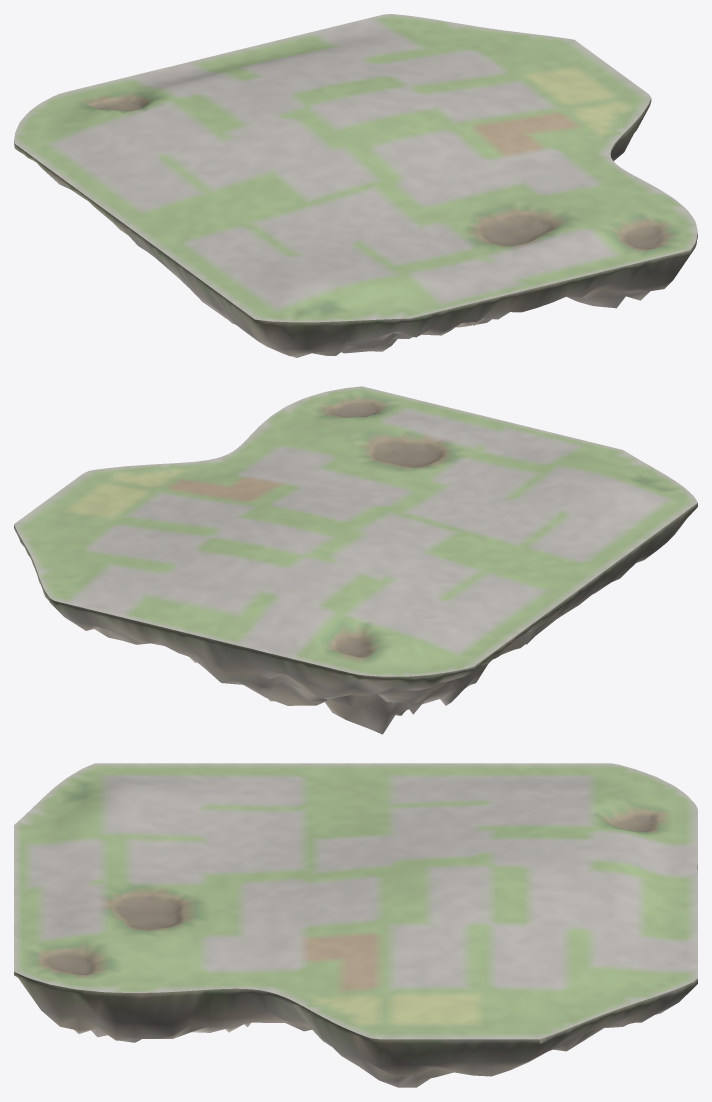
The model's file is SKY-073.rock.glb.
3 views of the same model, one above another, from view 1: azimuth 30°, elevation 25°; view 2: azimuth 150°, elevation 25°; view 3: azimuth 270°, elevation 25° (orthographic). The views are drawn at different scales.
Visible parts, largest first — view 1: deck-col, rock; view 2: deck-col, rock; view 3: deck-col, rock.
Boxes of the visible parts, x1,y1,x2,y2 form: deck-col: (14, 14, 697, 322); rock: (14, 98, 697, 357); deck-col: (14, 386, 697, 676); rock: (14, 503, 697, 734); deck-col: (14, 763, 697, 1039); rock: (14, 865, 697, 1087).
Bounding box in the file's own units: 209 × 67.59 × 219.
